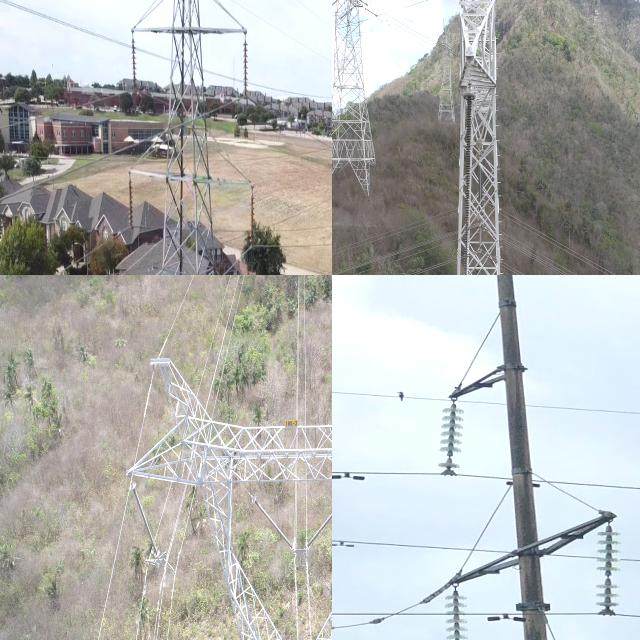杆塔: (439, 275, 616, 640), (121, 343, 332, 640), (117, 0, 270, 275), (454, 0, 502, 275), (332, 0, 371, 198), (435, 0, 453, 121)
正常绝缘子: (589, 521, 625, 615), (428, 395, 468, 472), (250, 492, 296, 554), (129, 480, 162, 563), (440, 586, 473, 640), (244, 178, 261, 275), (125, 29, 144, 111), (235, 30, 252, 118), (303, 507, 332, 552), (124, 164, 140, 232)
绝缘子破损: (603, 572, 613, 581), (446, 452, 454, 460)
